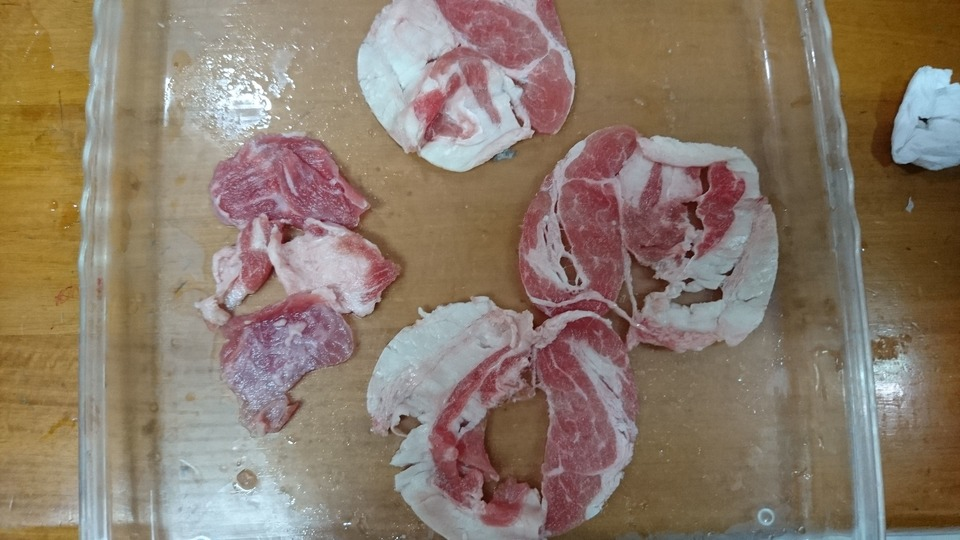restructured meat: (181, 127, 404, 438), (367, 293, 638, 540), (517, 122, 780, 353), (350, 2, 578, 172)
